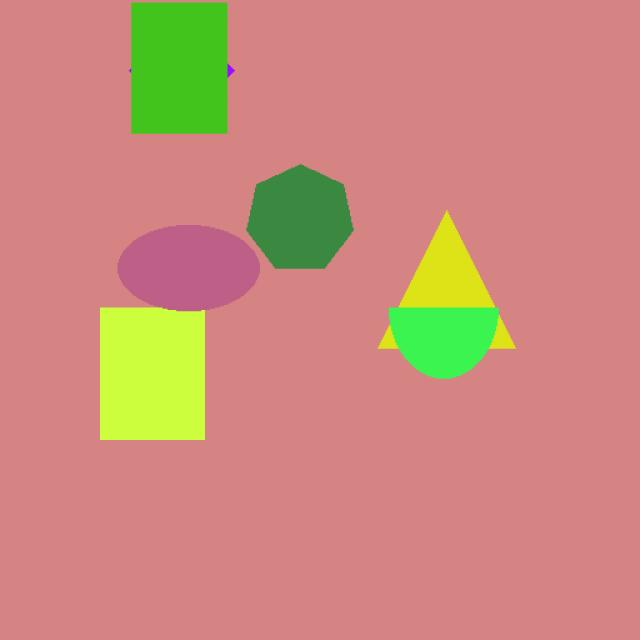Heptagon: (232, 148, 362, 294)
Oval: (95, 212, 286, 328)
Rectangle: (122, 0, 232, 135)
Semicircle: (367, 292, 511, 383)
Triangle: (338, 192, 524, 354)
square: (83, 286, 232, 479)
